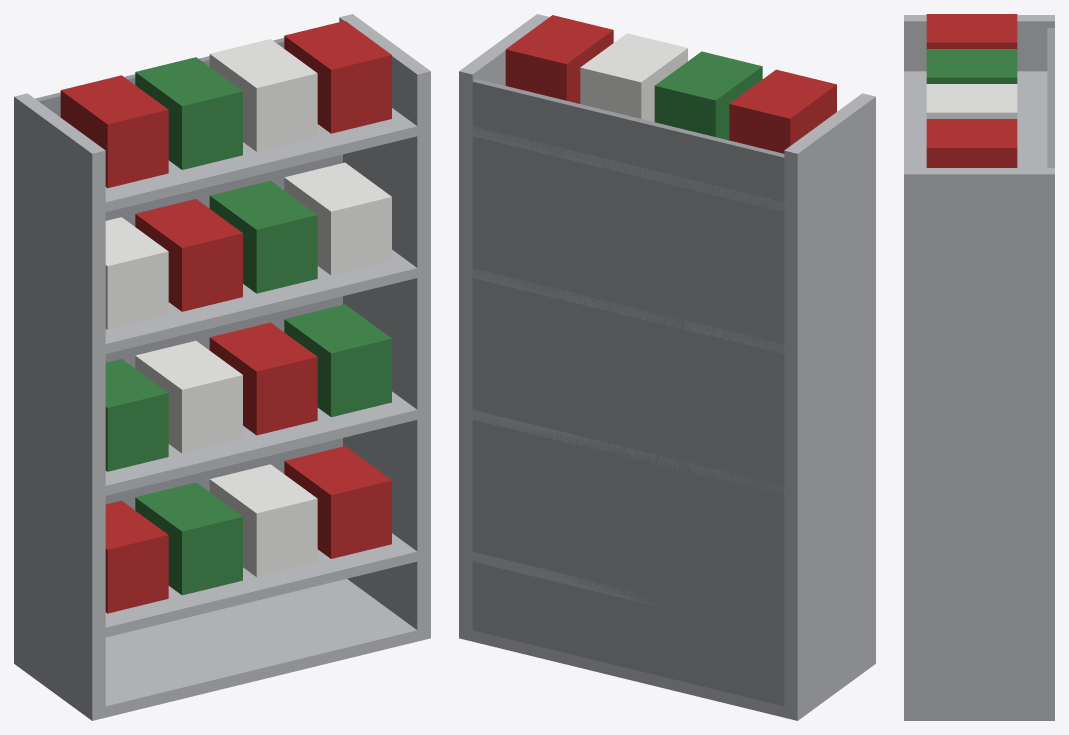
Rendered from snack_rack.glb.
The picture shows the model from 3 angles, left to right: view 1: azimuth 30°, elevation 25°; view 2: azimuth 150°, elevation 25°; view 3: azimuth 270°, elevation 25°; orthographic projection. The views are drawn at different scales.
Visible parts, largest first — view 1: Snack Rack; view 2: Snack Rack; view 3: Snack Rack.
Part boxes in pixels (<box>): Snack Rack: <box>14,14,430,720</box>; Snack Rack: <box>459,14,875,720</box>; Snack Rack: <box>904,14,1054,720</box>.
Bounding box in the file's own units: 0.5 × 0.82 × 0.2.
